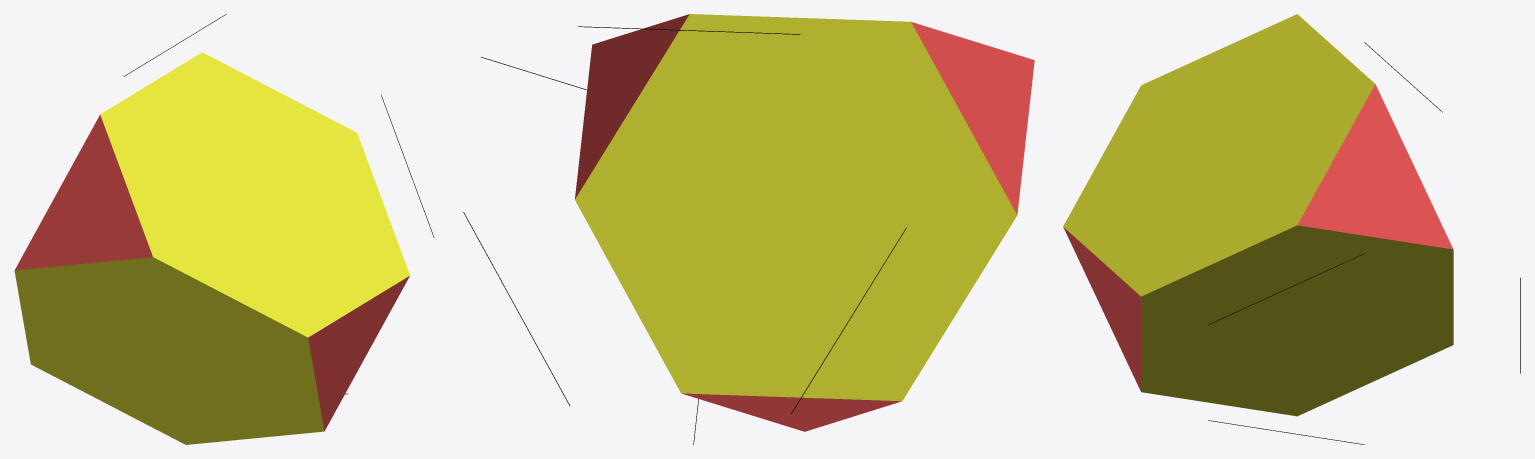
Rendered from tetra.obj.
The picture shows the model from 3 angles, left to right: view 1: azimuth 30°, elevation 25°; view 2: azimuth 150°, elevation 25°; view 3: azimuth 270°, elevation 25°; orthographic projection. The views are drawn at different scales.
Visible parts, largest first — view 1: VIFS002, VIFS001; view 2: VIFS002, VIFS001, VILS001; view 3: VIFS002, VIFS001, VILS001.
Boxes of the visible parts, box(x1,y1,x2,y2) form: VIFS002: box(14, 52, 409, 444); VIFS001: box(14, 114, 409, 431); VIFS002: box(575, 14, 1017, 401); VIFS001: box(575, 14, 1034, 431); VILS001: box(463, 26, 906, 444); VIFS002: box(1063, 14, 1453, 416); VIFS001: box(1063, 84, 1453, 391); VILS001: box(1208, 42, 1520, 444).
Bounding box in the file's own units: 2.43 × 2.05 × 2.36.
